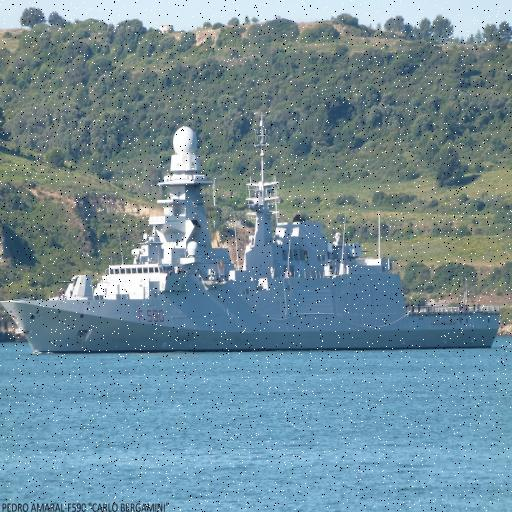Fragata: (1, 107, 505, 363)
